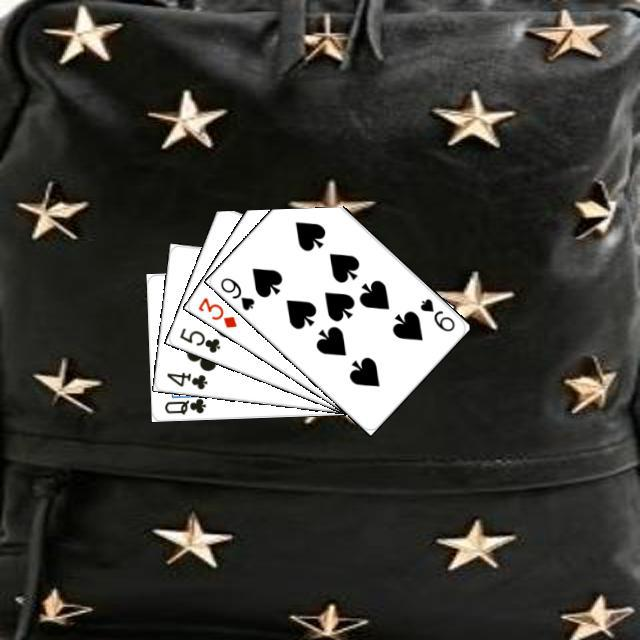3d: (193, 292, 239, 330)
4c: (162, 367, 209, 391)
5c: (174, 323, 222, 355)
9s: (415, 293, 457, 333), (215, 272, 256, 312)
Qc: (159, 389, 211, 416)
